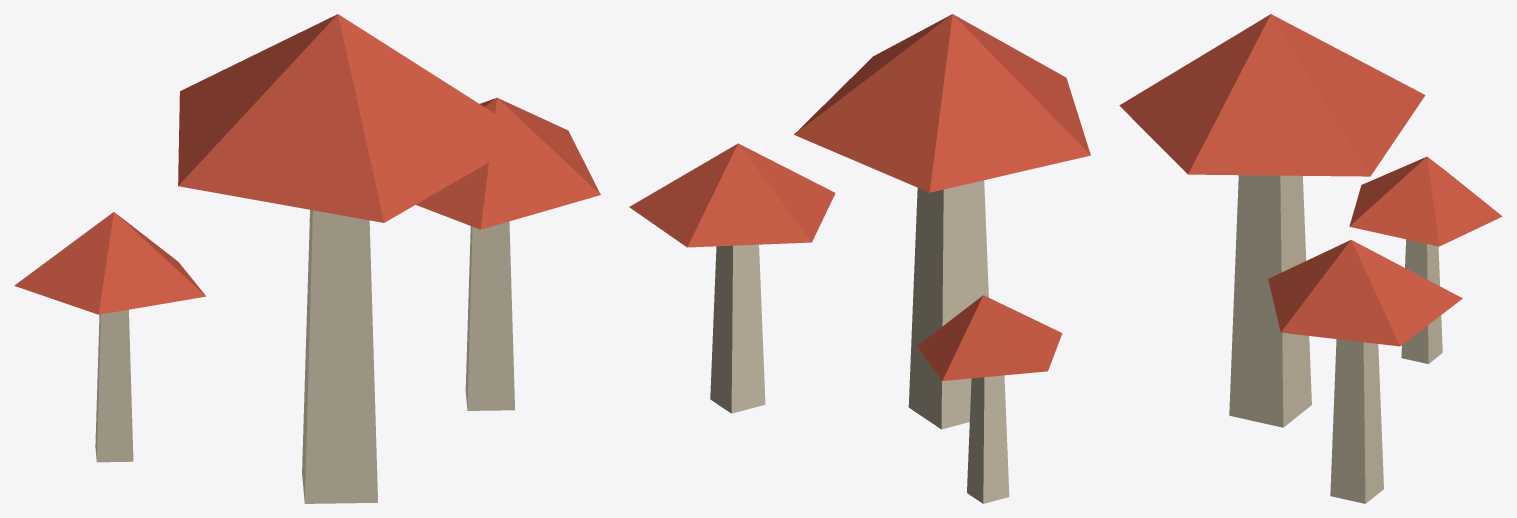
The model's file is world_mushrooms_a.obj.
3 renders of one model, left to right at view 1: azimuth 30°, elevation 25°; view 2: azimuth 150°, elevation 25°; view 3: azimuth 270°, elevation 25°, orthographic. The views are drawn at different scales.
Parts seen in each view (by area): view 1: world_mushrooms_a; view 2: world_mushrooms_a; view 3: world_mushrooms_a.
Part boxes in pixels (bbox=[...]): world_mushrooms_a: bbox=[14, 14, 600, 503]; world_mushrooms_a: bbox=[629, 14, 1090, 503]; world_mushrooms_a: bbox=[1119, 14, 1502, 503].
Size of the model in its own units: 2.34 by 2.02 by 1.77.
